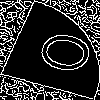O: (24, 24, 97, 78)
